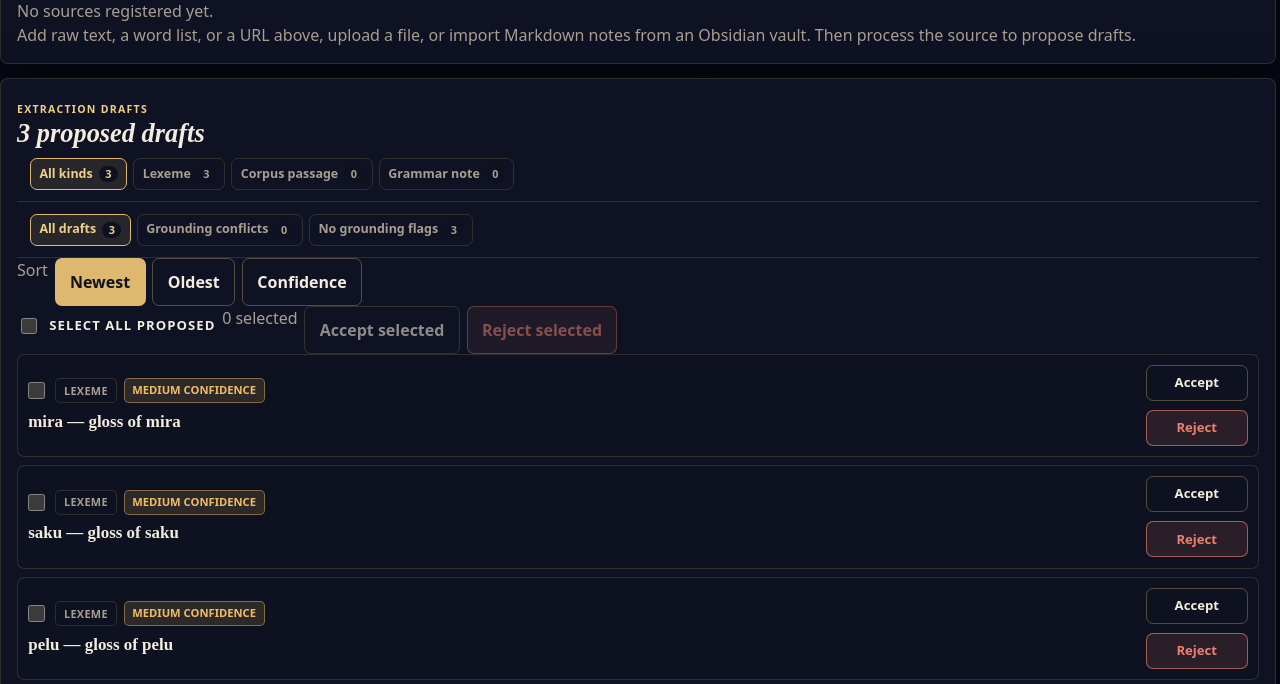
Scenario: IngestView bulk draft review › accepts selected drafts in bulk and refreshes the queue
(page scrolled)
Expected: the heading "3 proposed drafts" is shown, [17,119,205,147]
Click the checkbox named "Select draft draft-1": (37, 391) [28,382,45,399]
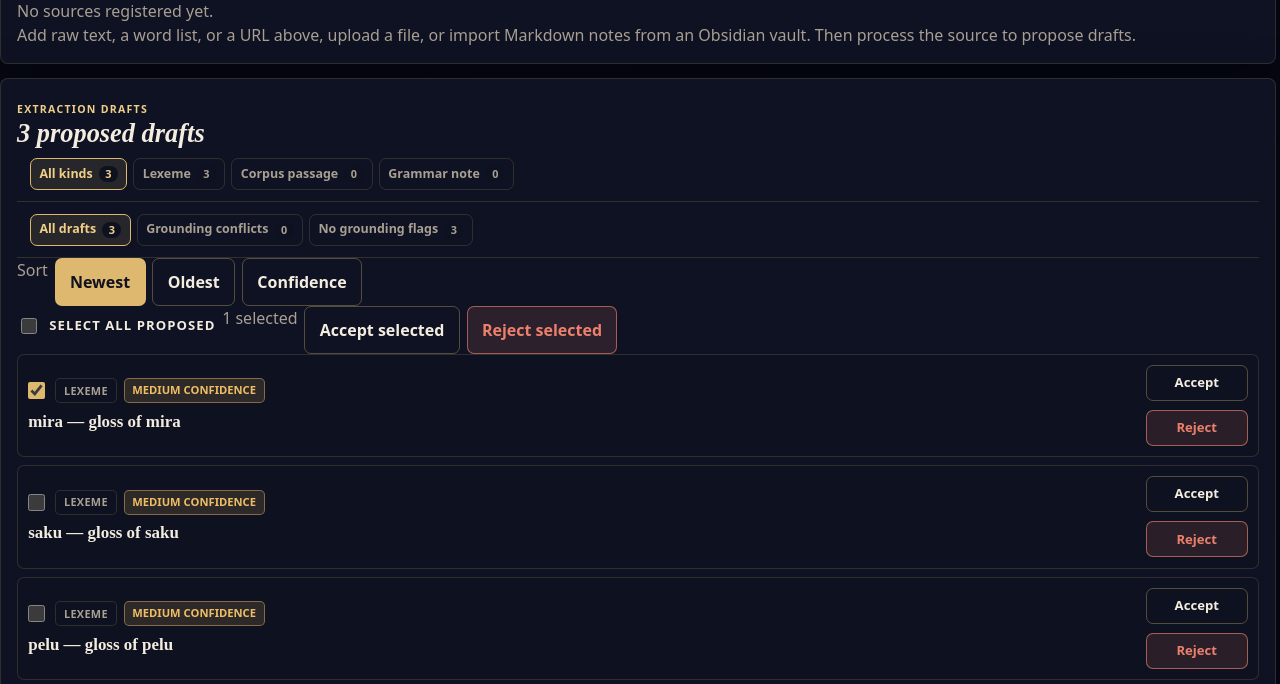
Click the checkbox named "Select draft draft-2": (37, 502) [28,494,45,511]
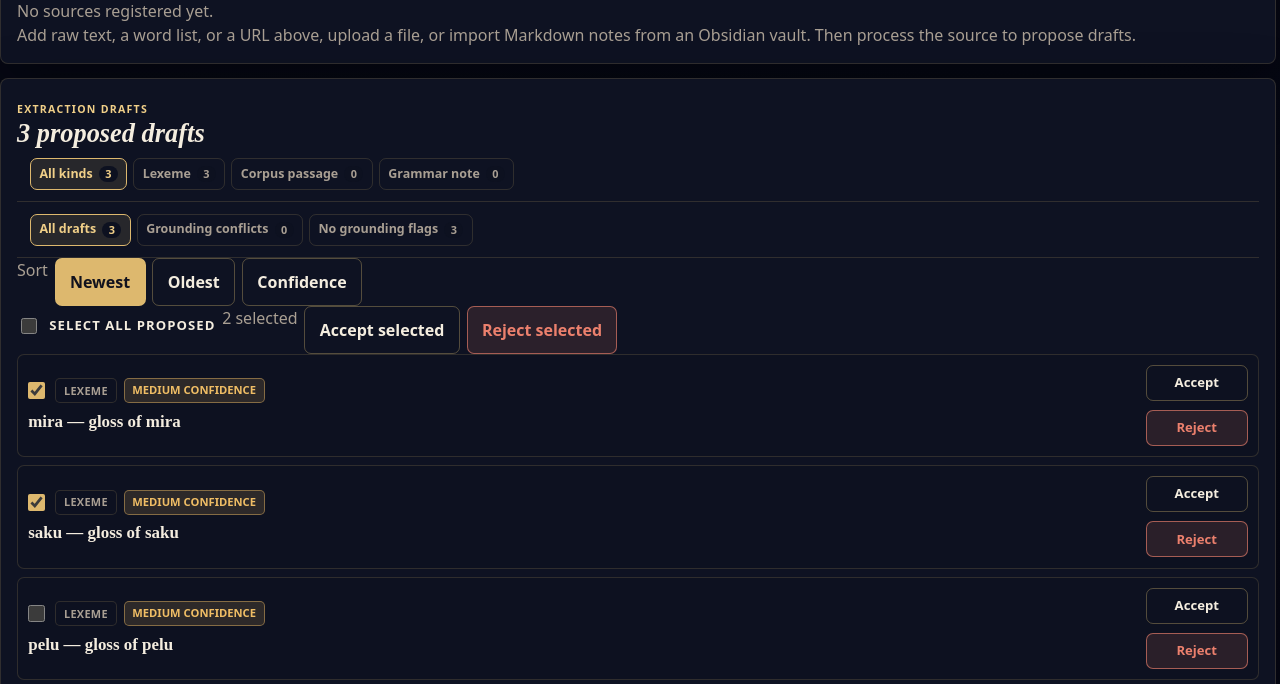
Click the button "Accept selected": (382, 330) [304,306,460,354]
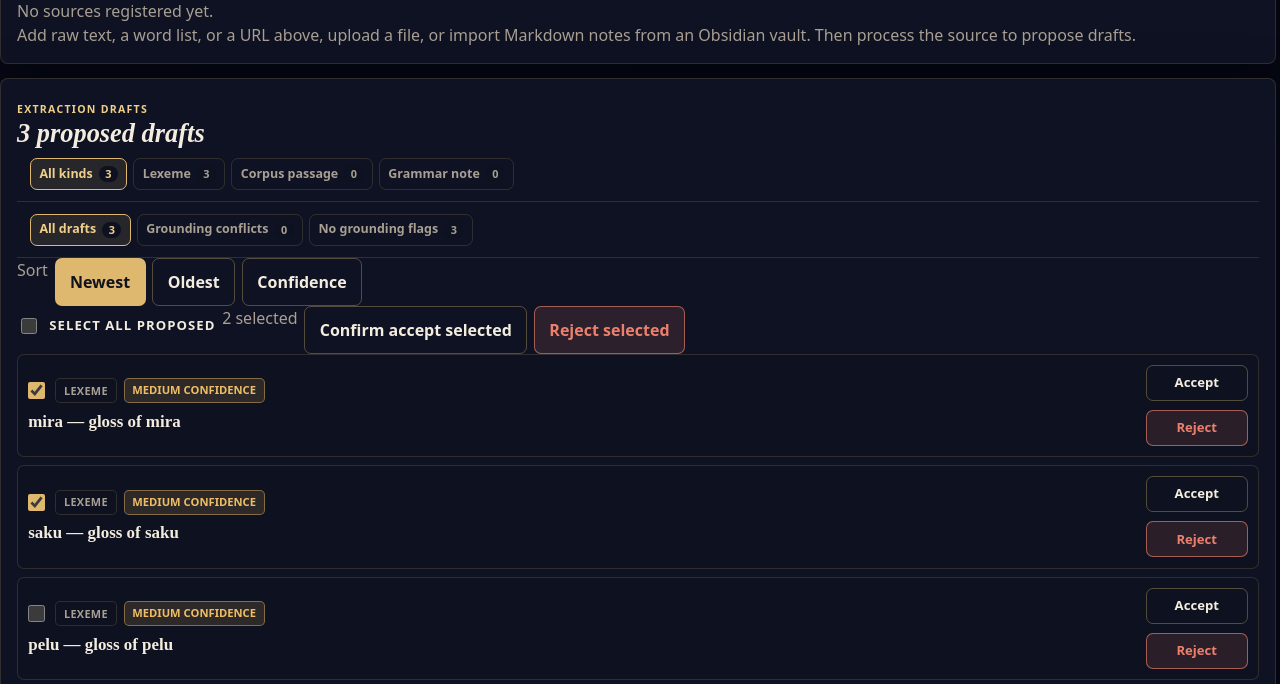
Click the button "Confirm accept selected": (416, 330) [304,306,527,354]
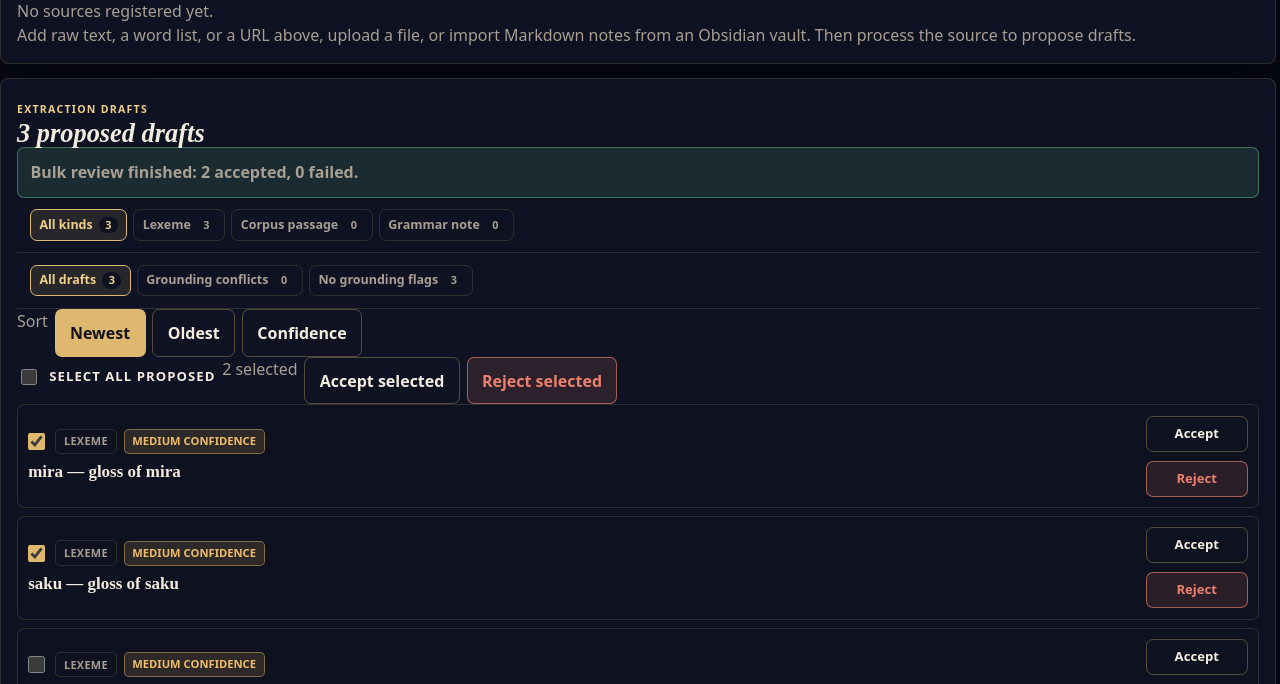
Expected: the text "Bulk review finished: 2 accepted, 0 failed." is shown, [17,147,1259,198]
